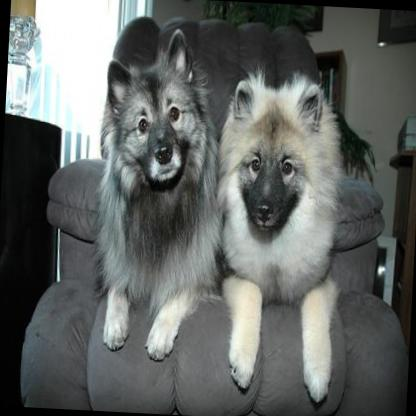keeshond: (205, 64, 346, 403), (88, 24, 223, 361)
